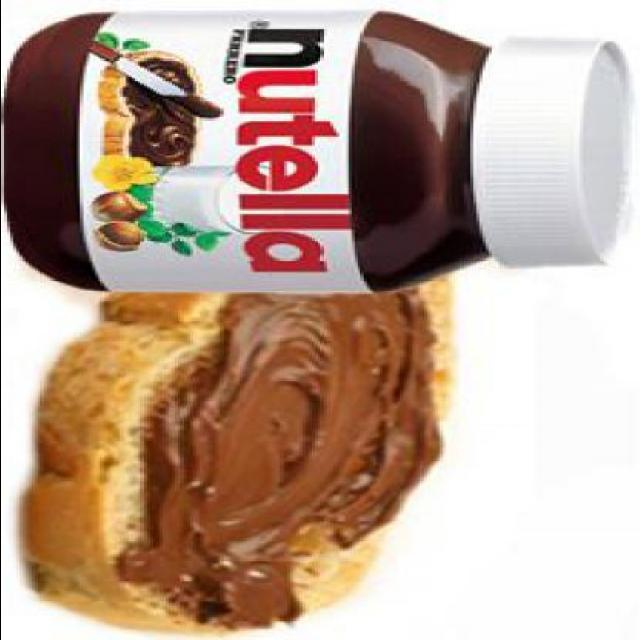Spread: (125, 294, 433, 614)
